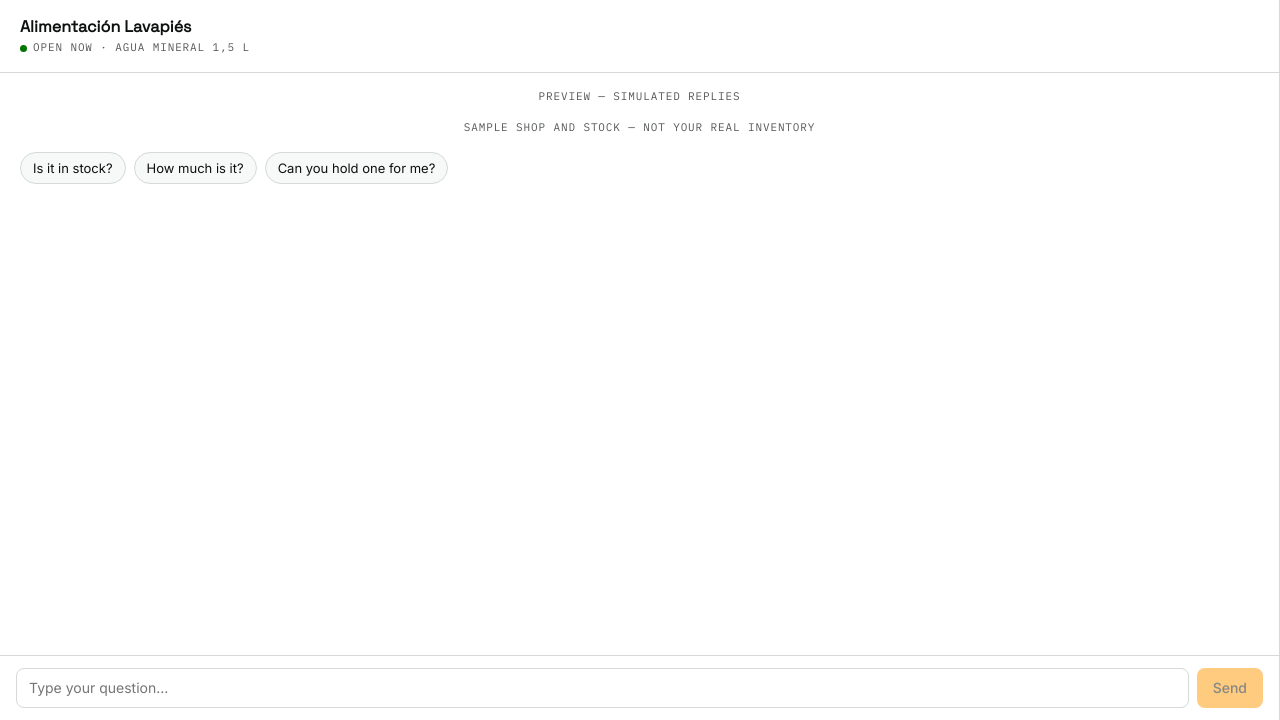
it: RetailChatPane › answers a question from the mock, with no backend
The image size is (1280, 720).
Click the button "Is it in stock?".
click(73, 168)  # box [20,152,126,184]
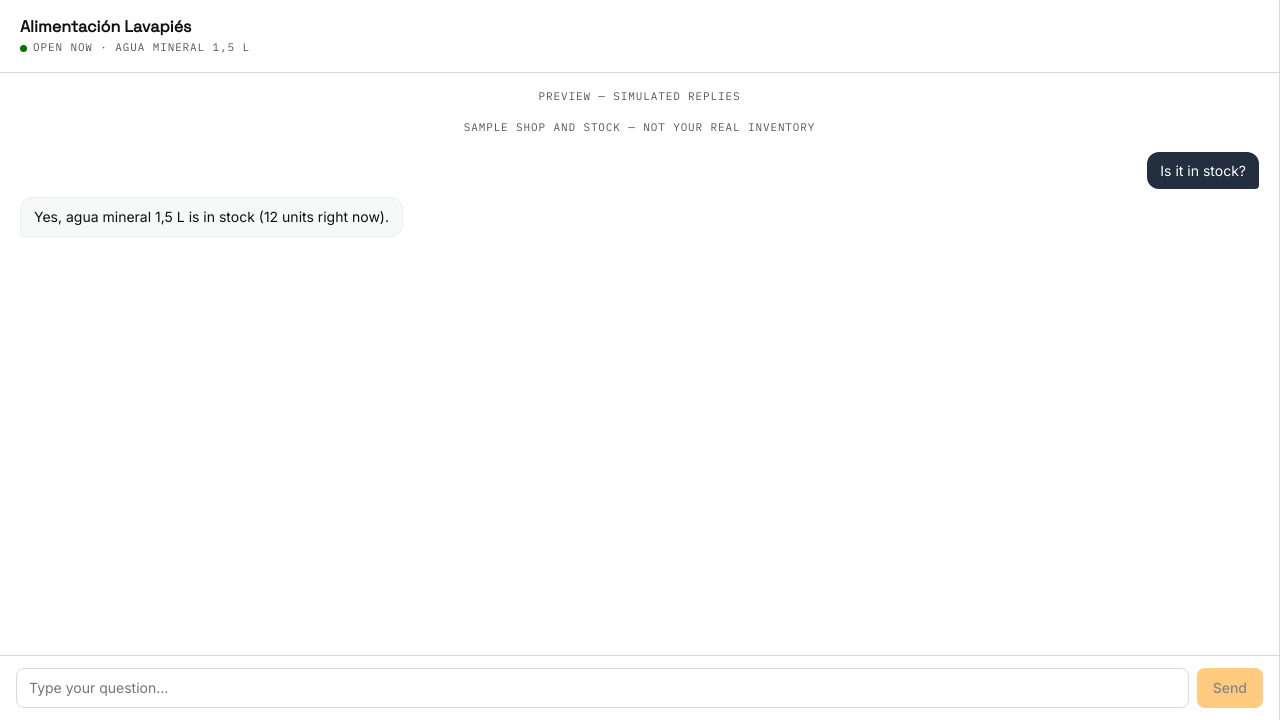
Check: the text "Yes, agua mineral 1,5 L is in stock (12 units right now)." is shown, box [20,197,403,237]
